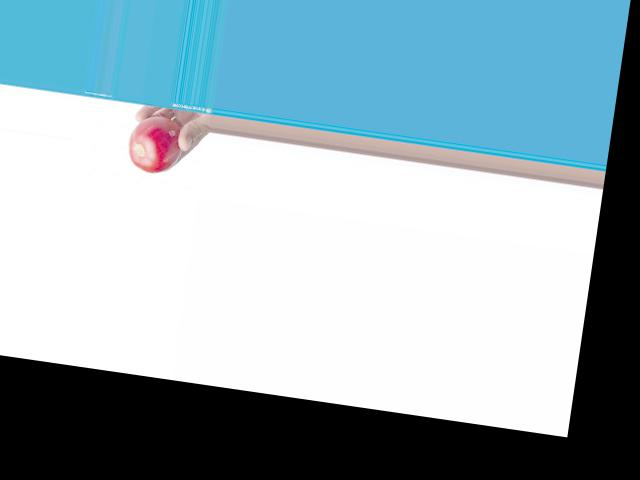tomato: (124, 112, 186, 176)
